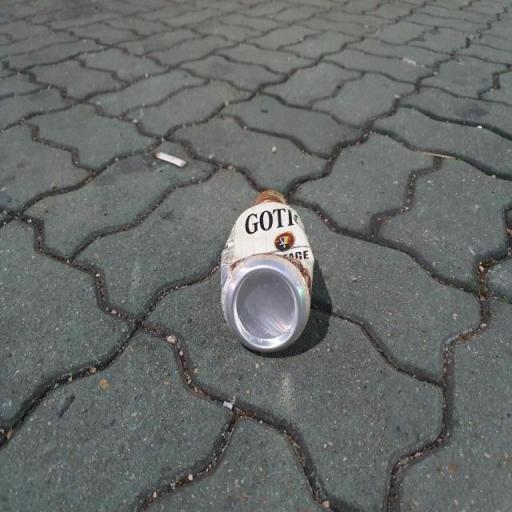metal: (213, 172, 313, 373)
